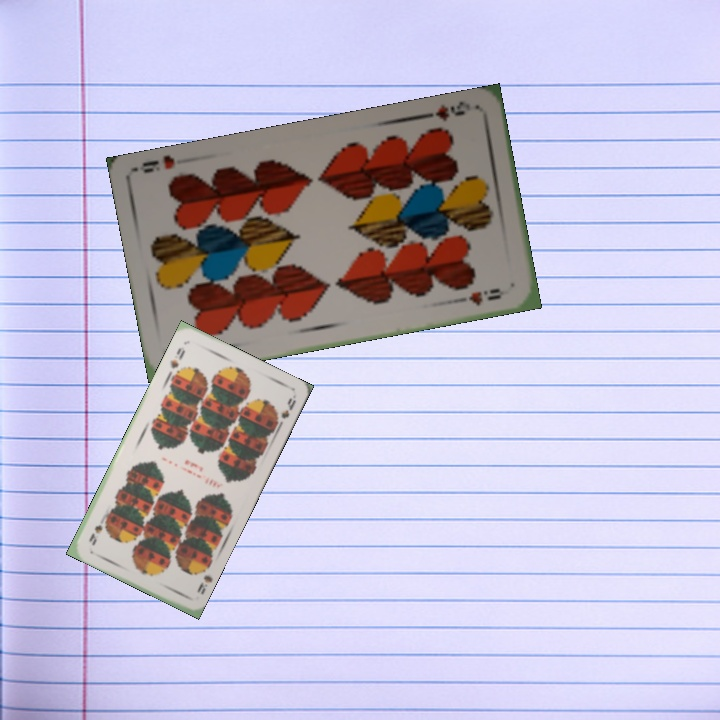H9: (418, 97, 473, 123)
S9: (193, 561, 214, 597), (166, 342, 188, 372)
